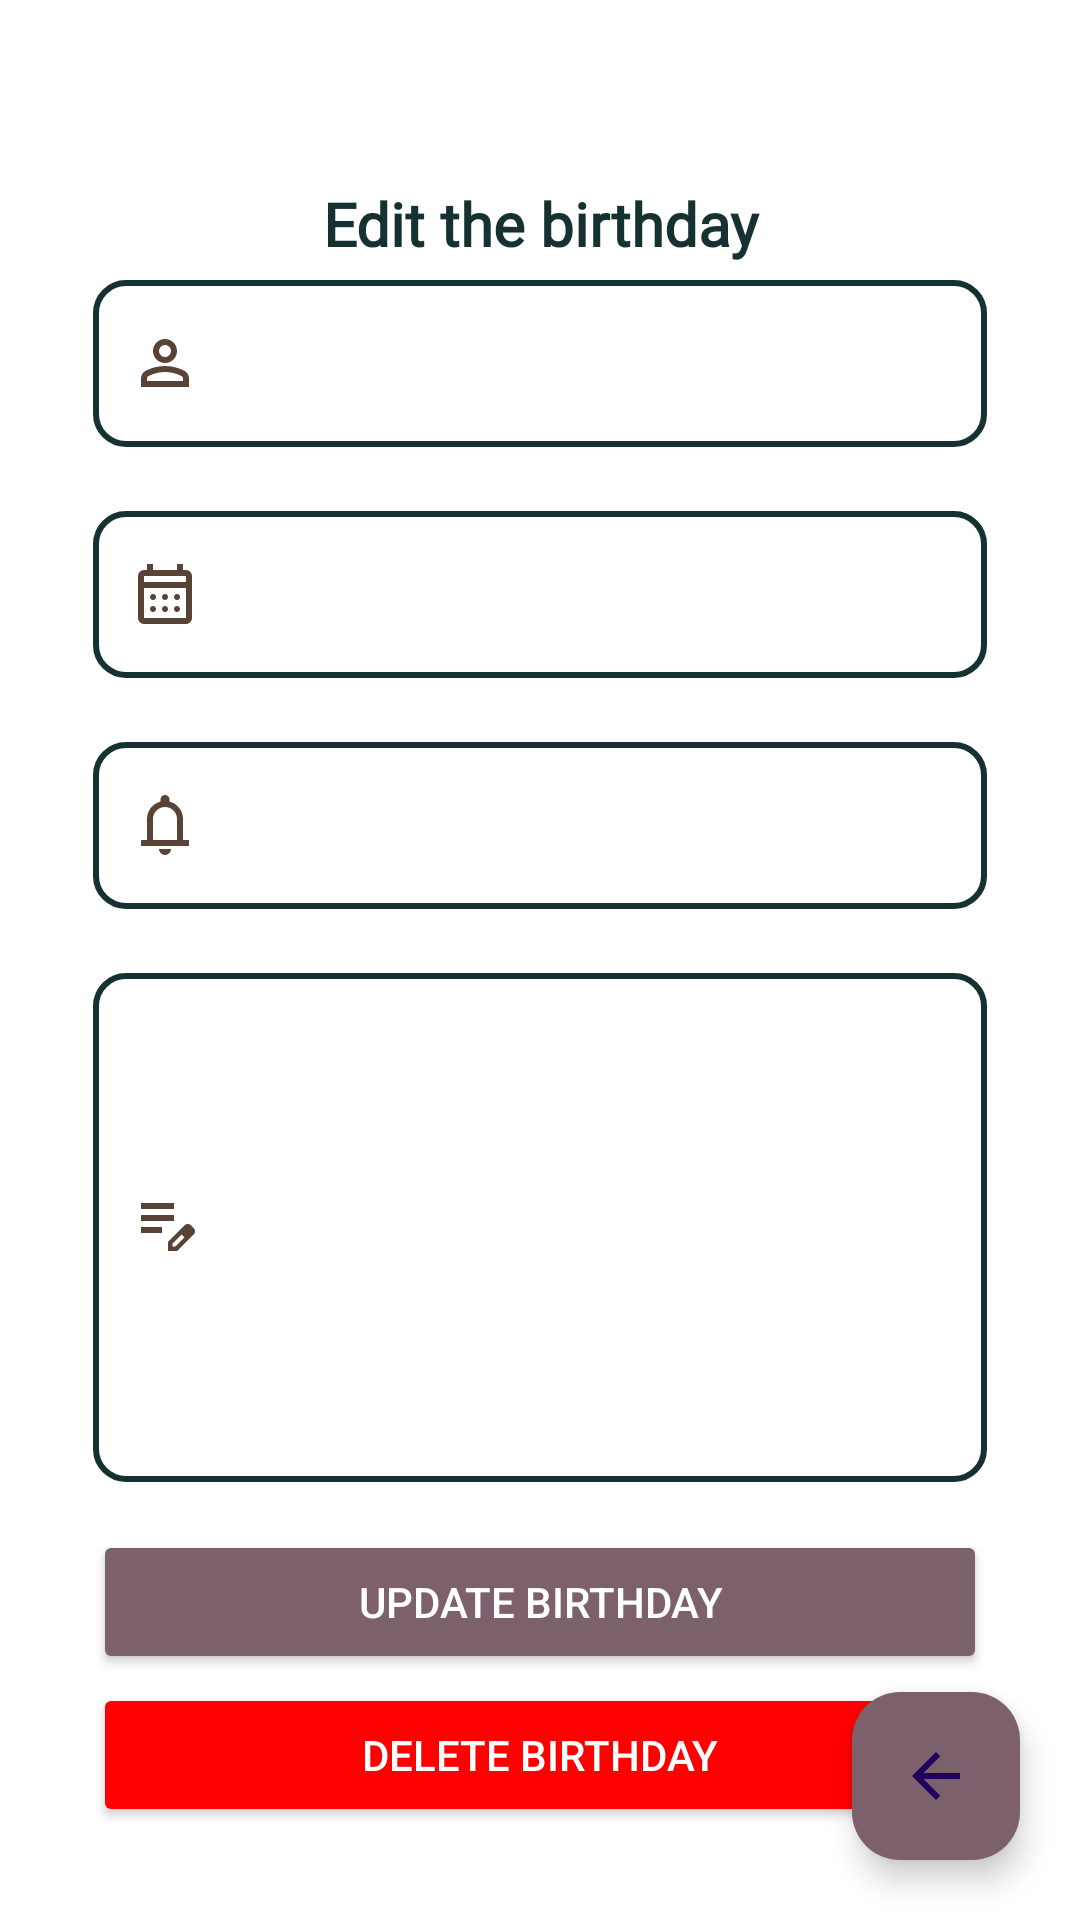

Locate icon controls on the screen. Image size 1080*1920, boxes as (left=x1, top=y1, right=x2, bottom=y2).
back: (left=852, top=1692, right=1020, bottom=1860)
